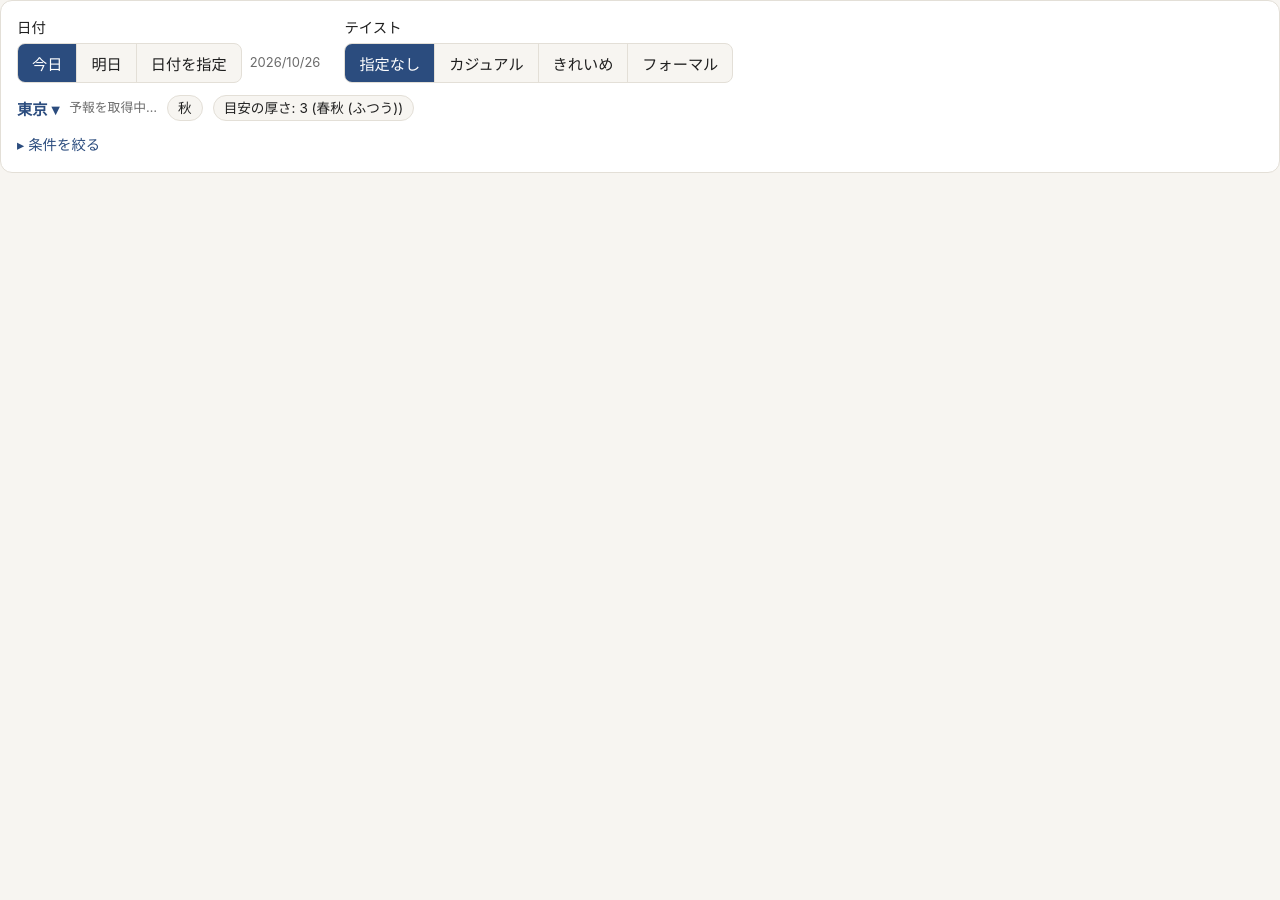
it: SuggestView must-include conflicts › explains that the chosen items cannot be worn together instead of the generic empty message
This screenshot has width=1280, height=900.
Step 1. Click the button "▸ 条件を絞る" → (59, 144), box [17,133,100,154]
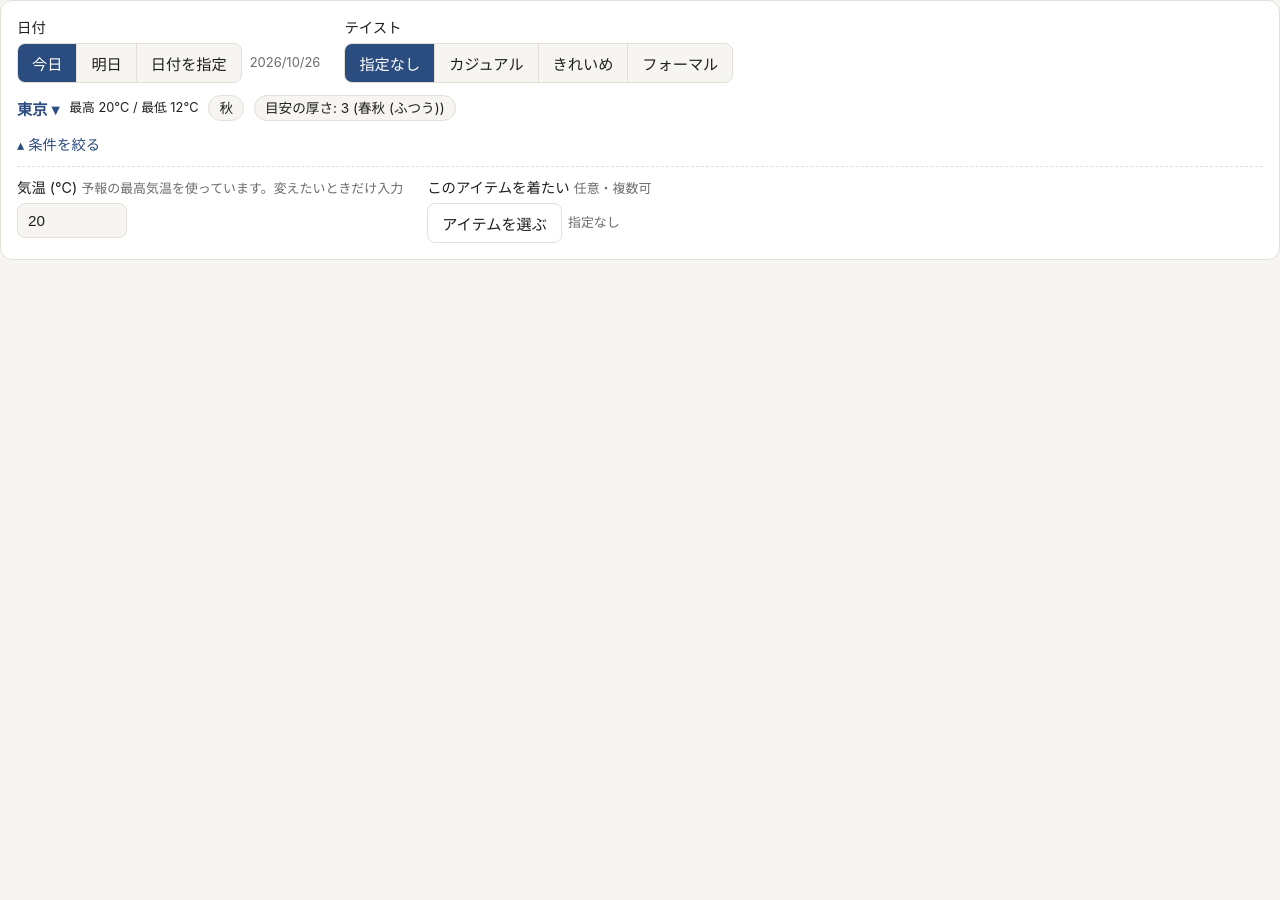
Expected: the number field with placeholder "例: 18" holds "20", [17,203,127,238]
Step 2. Click the button "アイテムを選ぶ" → (495, 223), box [427,203,562,243]
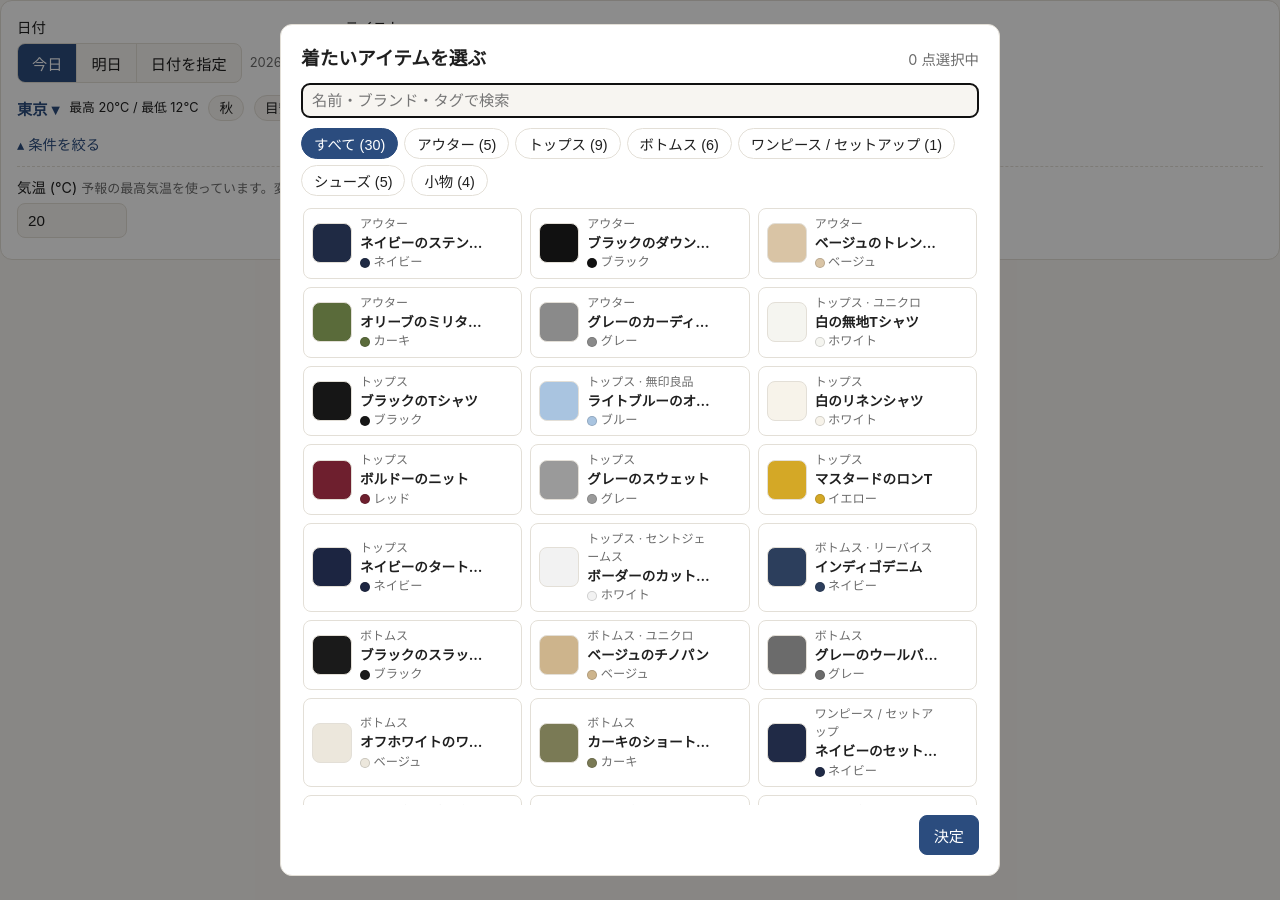
Step 3. Click the button "トップス · ユニクロ 白の無地Tシャツ ホワイト" → (867, 322), box [758,287,977,358]
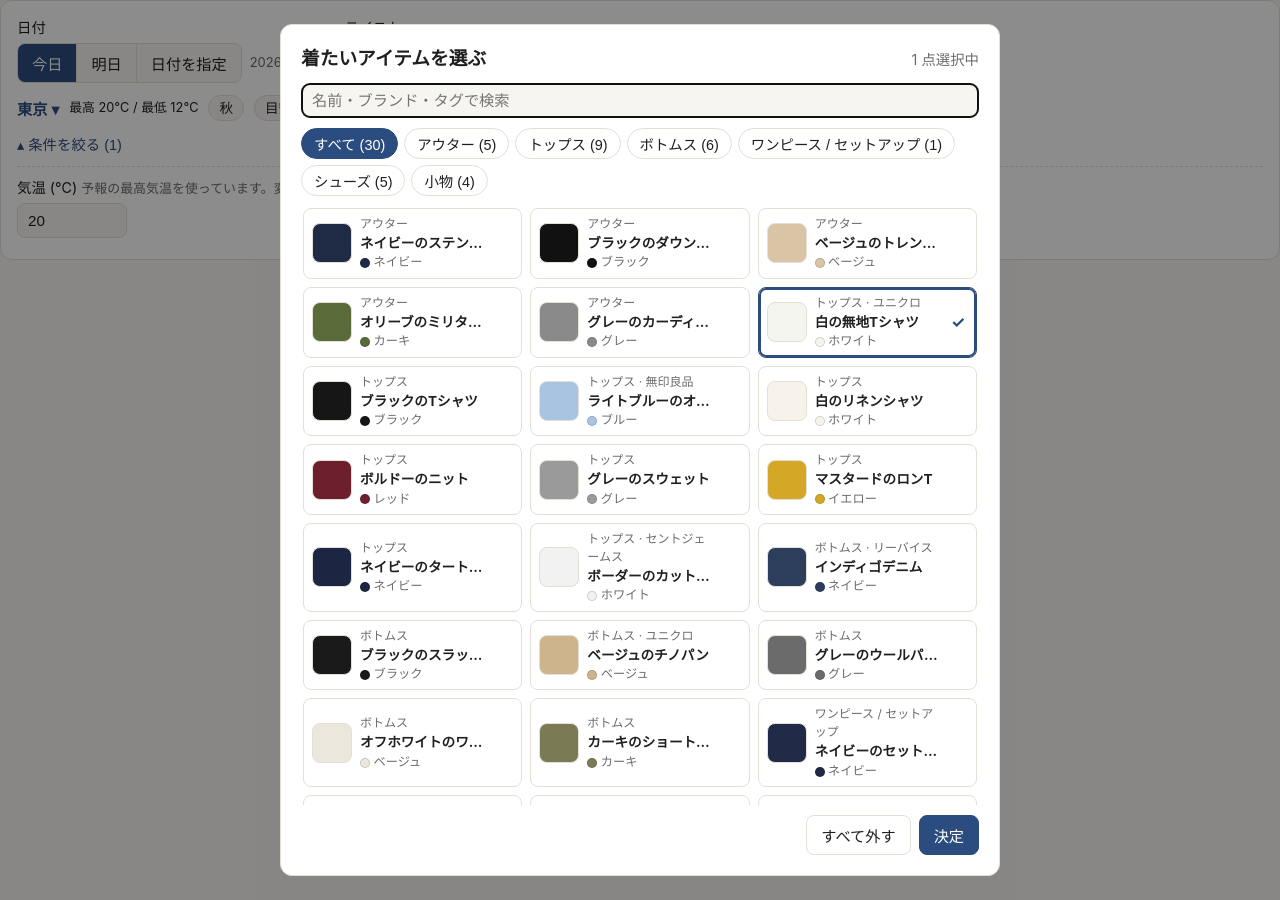
Step 4. Click the button "トップス ブラックのTシャツ ブラック" → (413, 401), box [303,366,522,436]
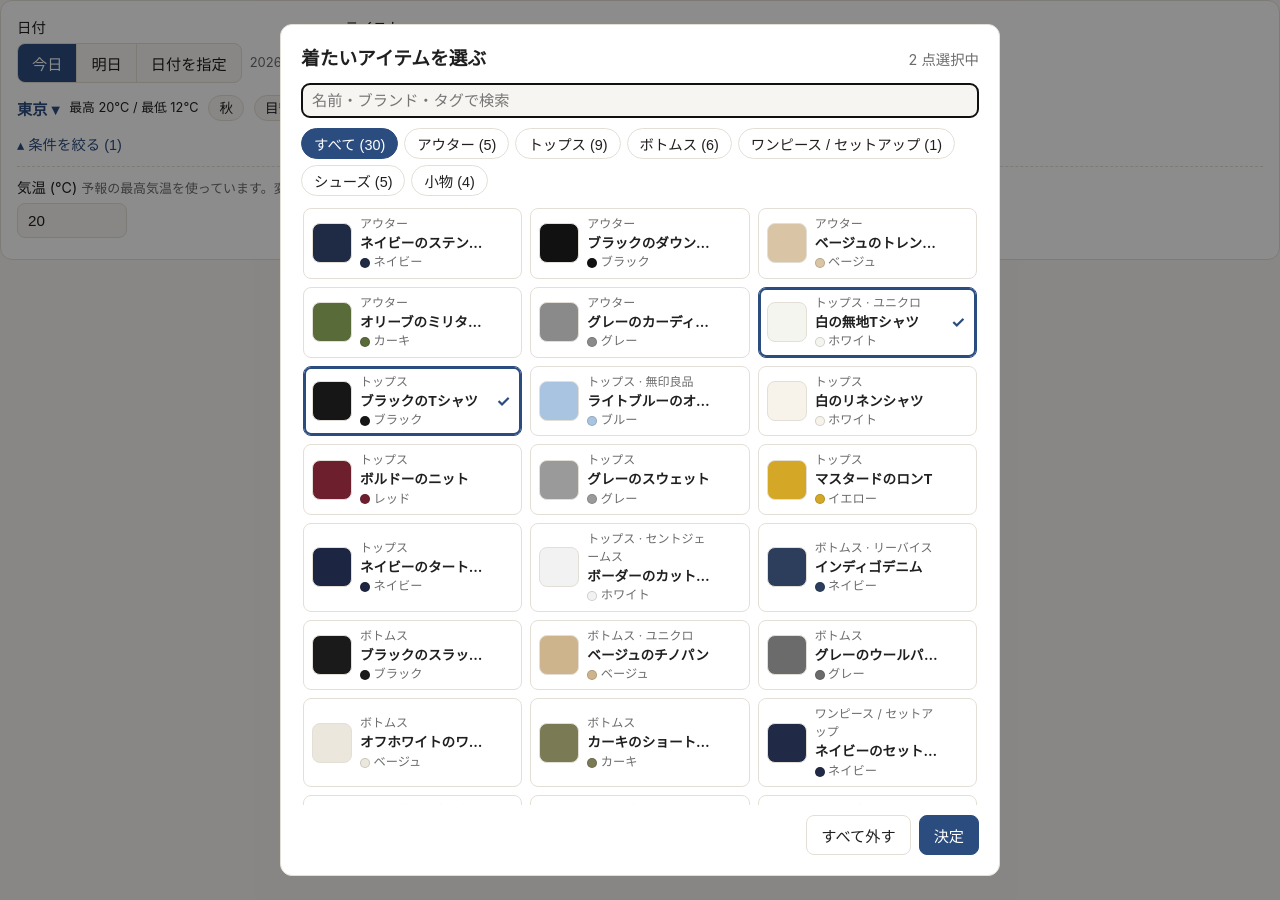
Step 5. Click the button "決定" → (949, 835), box [919,815,979,855]
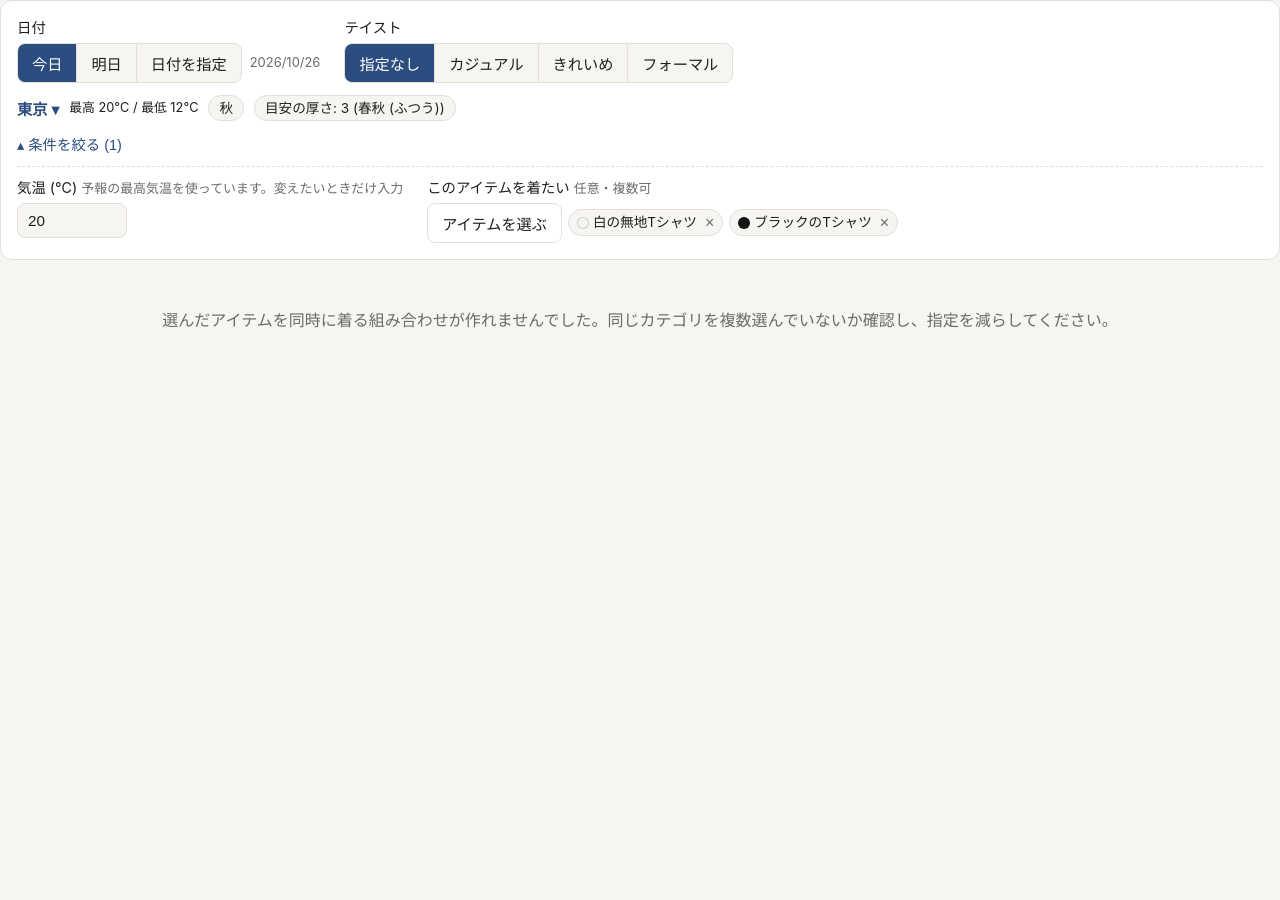
Expected: the text "選んだアイテムを同時に着る組み合わせが作れませんでした。同じカテゴリを複数選んでいないか確認し、指定を減らしてください。" is shown, [162,310,1118,330]
